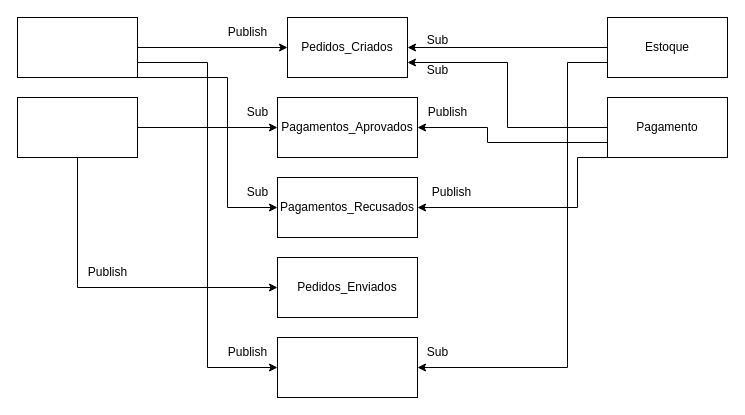
Image size: 745x415. Some labels were removed from this diagram. The shapes that lost their labels are listed below. From the top down, each one's centre as x and y in pixels, then its label:
At point (77, 47): "Principal".
At point (77, 127): "Entrega".
At point (347, 367): "Pedidos_Excluídos".
